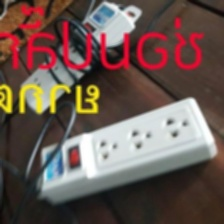three_eye_plug: (32, 93, 220, 210), (17, 1, 141, 118)
